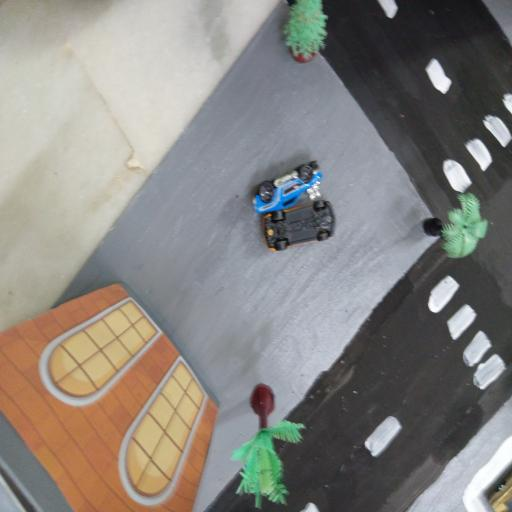car crash: (247, 158, 338, 252), (259, 202, 336, 252), (247, 166, 319, 211)
